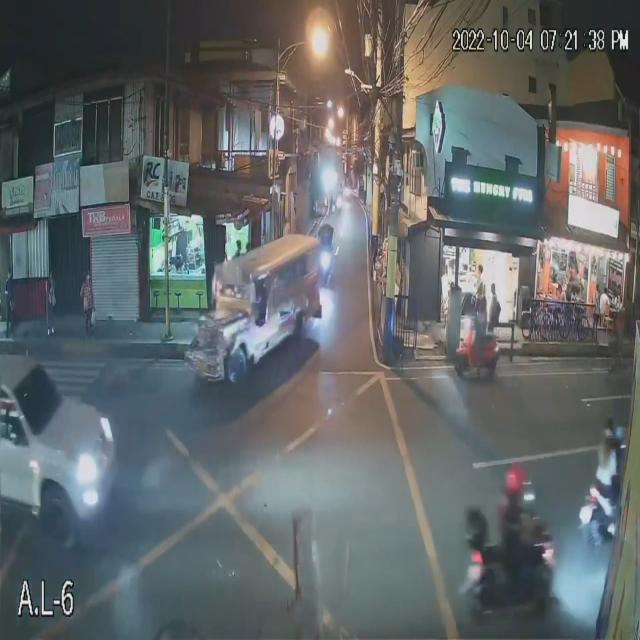Half-Faced: (506, 463, 535, 504)
